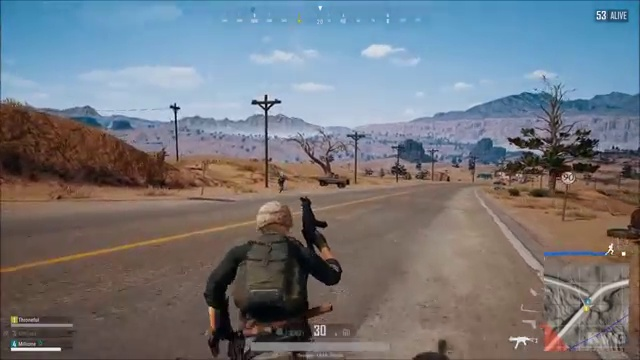Player: (181, 183, 374, 318)
